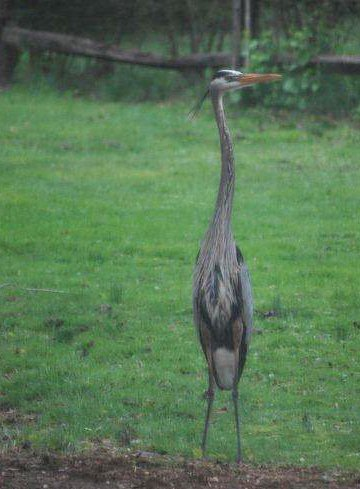heron: (174, 61, 284, 468)
